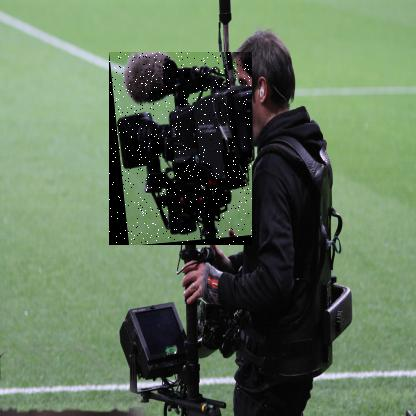Camera: (110, 53, 254, 247)
